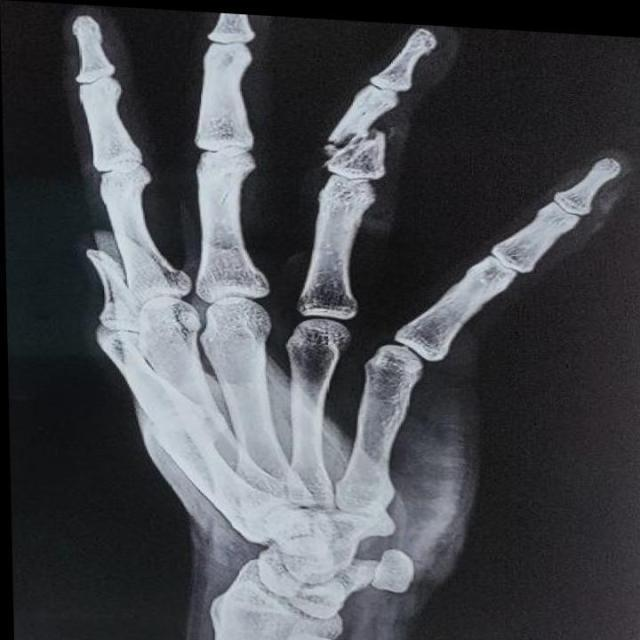bone: (320, 110, 390, 180)
